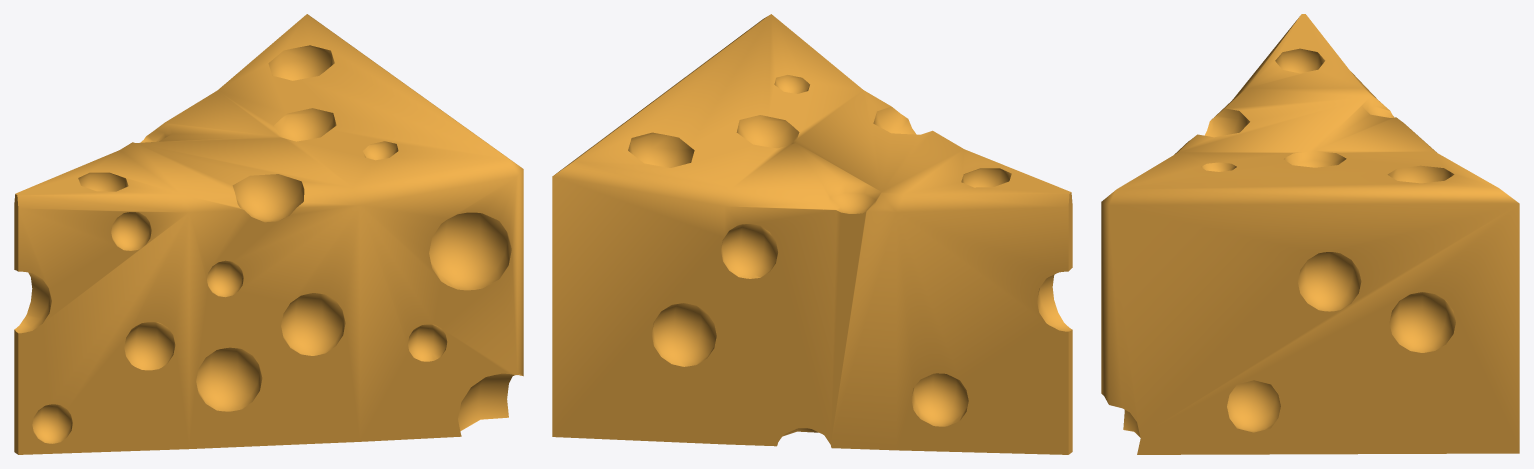
The model's file is Cheese.fbx.
3 views of the same model, side by side, from view 1: azimuth 30°, elevation 25°; view 2: azimuth 150°, elevation 25°; view 3: azimuth 270°, elevation 25° (orthographic). The views are drawn at different scales.
Parts seen in each view (by area): view 1: Cube.170; view 2: Cube.170; view 3: Cube.170.
Boxes of the visible parts, x1,y1,x2,y2 form: Cube.170: [14, 14, 523, 454]; Cube.170: [552, 14, 1072, 454]; Cube.170: [1101, 14, 1519, 454].
Size of the model in its own units: 18.59 by 11.84 by 17.2.
